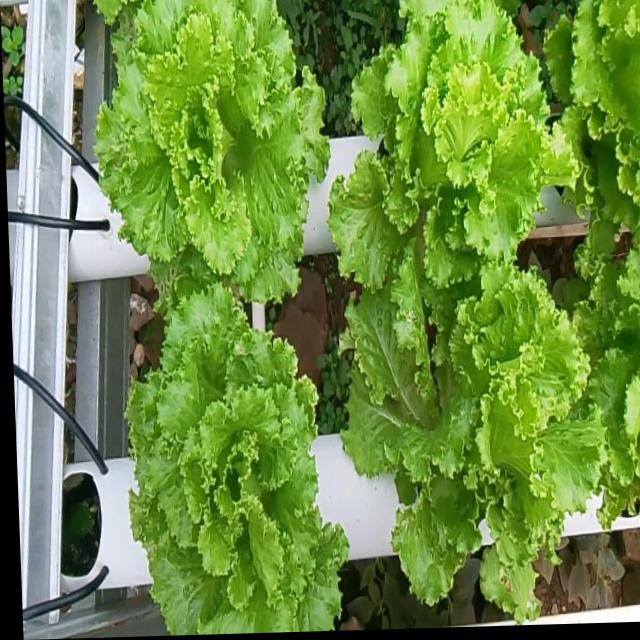Mature: (341, 265, 603, 622), (71, 0, 331, 331), (125, 281, 348, 635), (329, 0, 581, 293)
